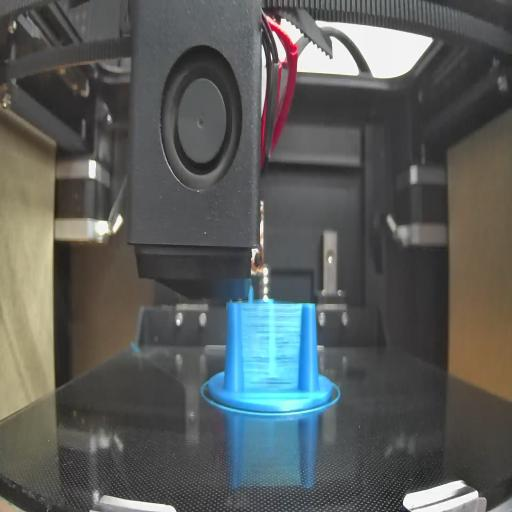stringing: (241, 305, 303, 392)
